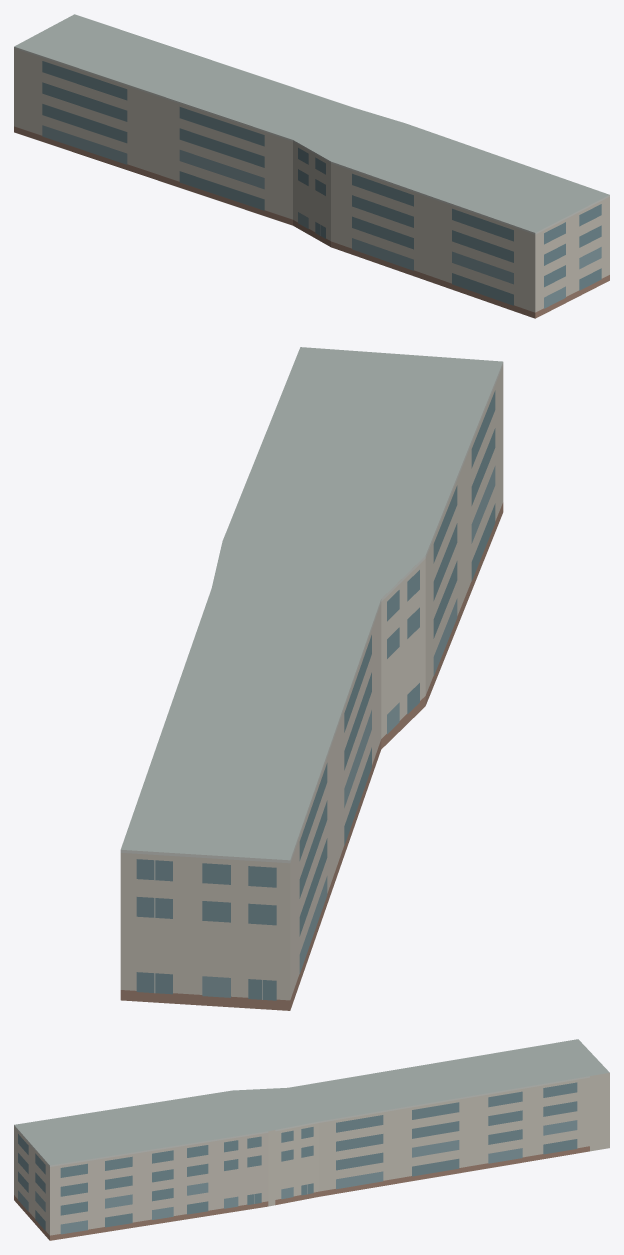
The model's file is residential-226947fb-74c2-4118-bf70-37db4c64000d.glb.
The picture shows the model from 3 angles, top to bottom: view 1: azimuth 30°, elevation 25°; view 2: azimuth 150°, elevation 25°; view 3: azimuth 270°, elevation 25°; orthographic projection. The views are drawn at different scales.
Parts seen in each view (by area): view 1: residential-226947fb-74c2-4118-bf70-37db4c64000d.tmp; view 2: residential-226947fb-74c2-4118-bf70-37db4c64000d.tmp; view 3: residential-226947fb-74c2-4118-bf70-37db4c64000d.tmp.
Part boxes in pixels (x1,y1,x2,y2): residential-226947fb-74c2-4118-bf70-37db4c64000d.tmp: [14, 14, 609, 318]; residential-226947fb-74c2-4118-bf70-37db4c64000d.tmp: [120, 347, 503, 1010]; residential-226947fb-74c2-4118-bf70-37db4c64000d.tmp: [14, 1039, 609, 1240].
Bounding box in the file's own units: 43.94 × 12.2 × 87.5.
